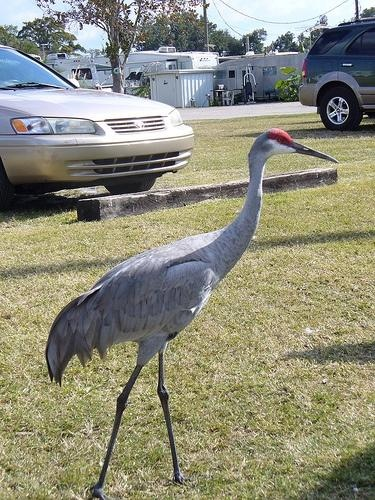bird: (44, 127, 341, 496)
car: (2, 41, 198, 217), (300, 17, 375, 134)
